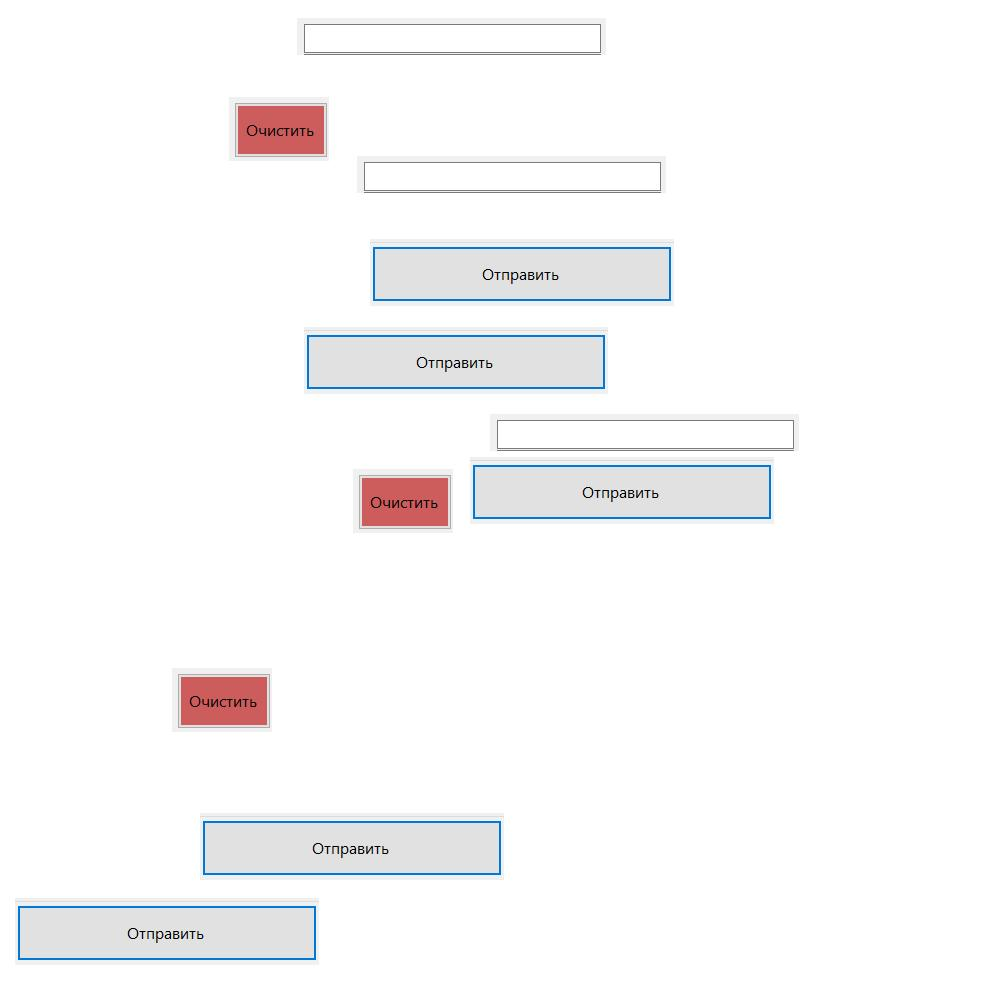Button: (470, 457, 774, 524), (370, 239, 674, 306), (200, 813, 504, 880), (304, 327, 608, 394), (15, 898, 319, 965), (229, 97, 329, 161), (353, 469, 453, 533), (172, 668, 272, 732)
EditText-: (357, 156, 666, 193), (297, 18, 606, 55), (490, 414, 799, 451)
